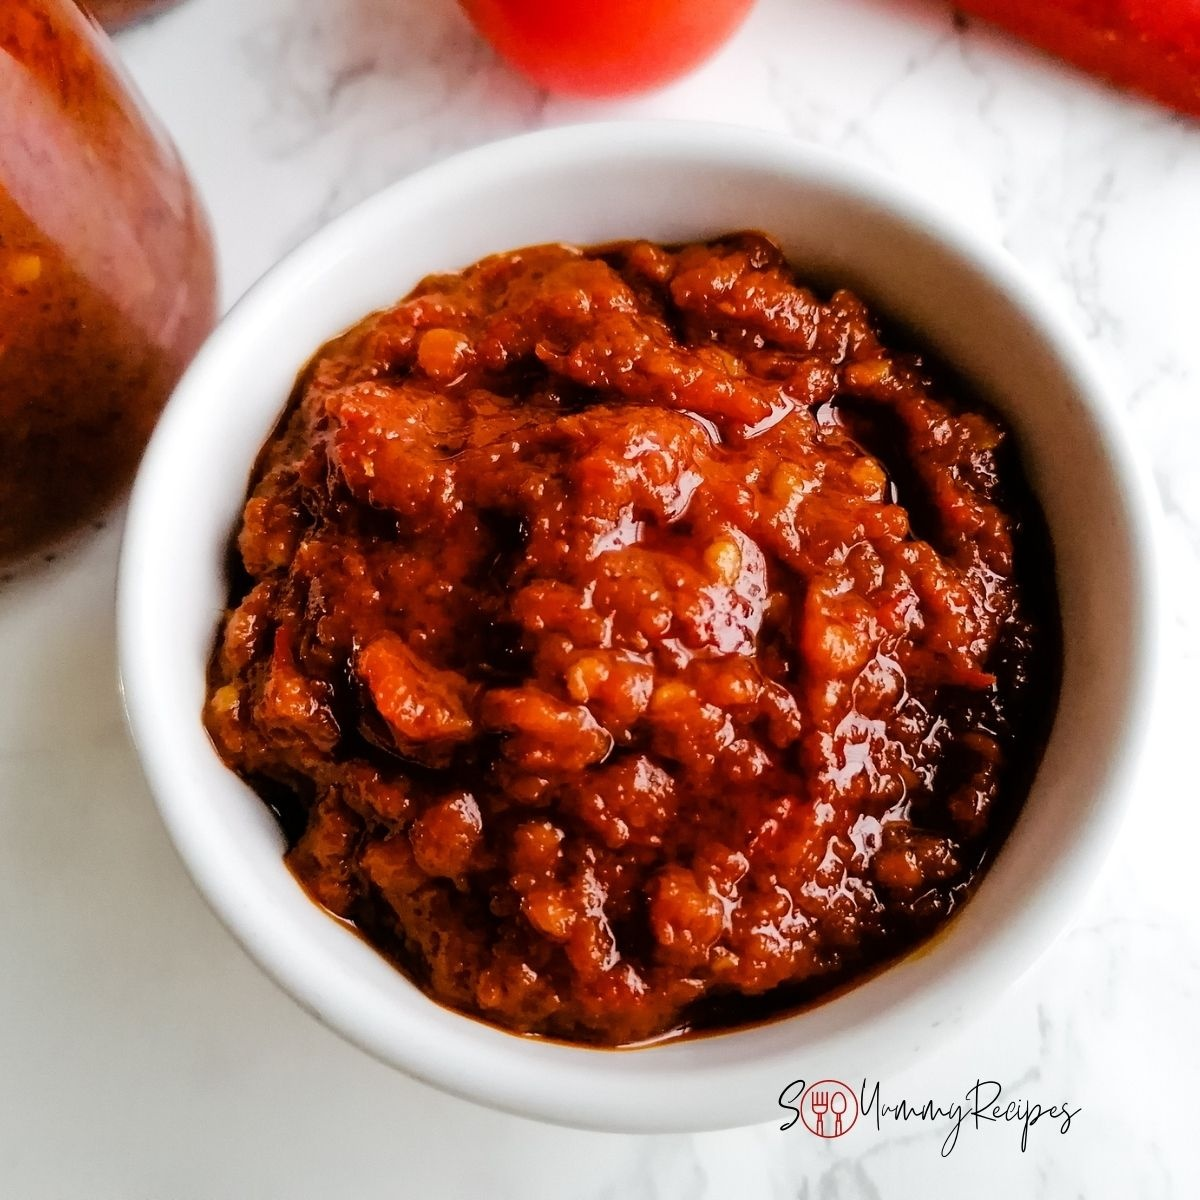sambal: (208, 235, 1016, 1035)
